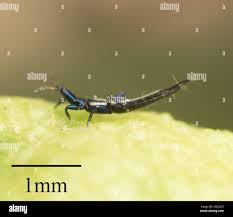Phlaeothripidae: (33, 76, 191, 124)
